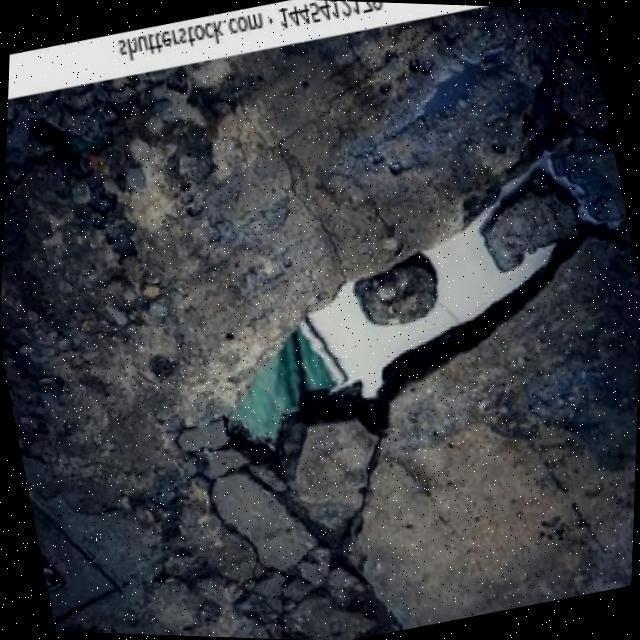Pothole: (224, 78, 632, 491)
